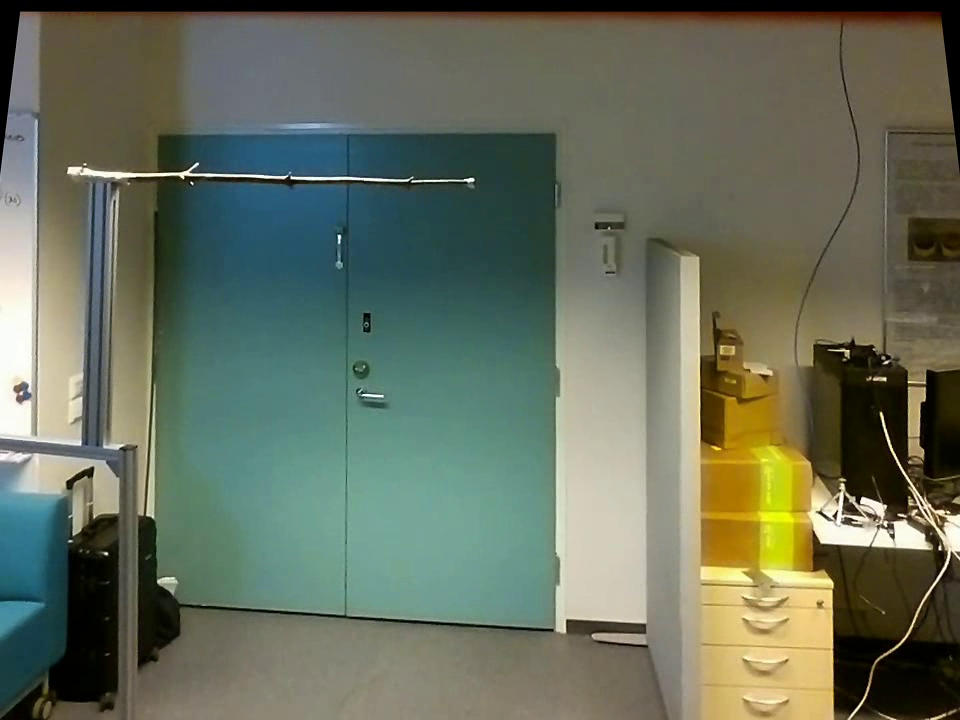aluminum_frame: (79, 183, 114, 443), (115, 438, 143, 719), (24, 105, 43, 474), (0, 427, 122, 470)
branch: (133, 157, 464, 196)
